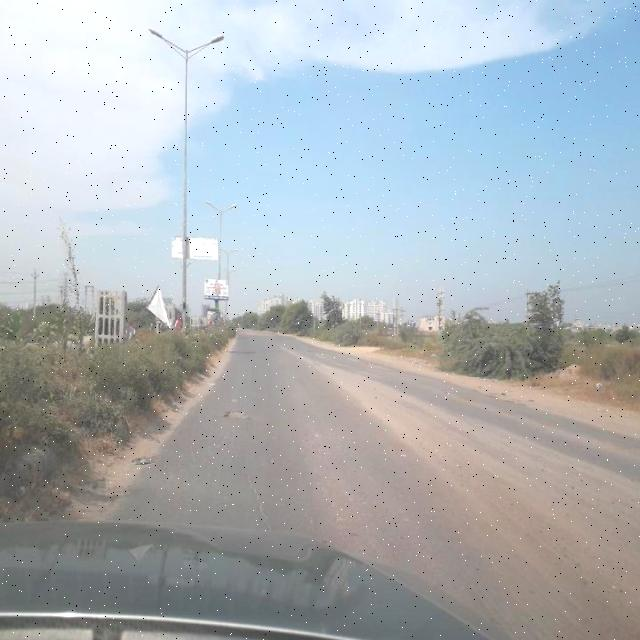D00: (244, 447, 276, 528)
D40: (220, 404, 253, 424)
